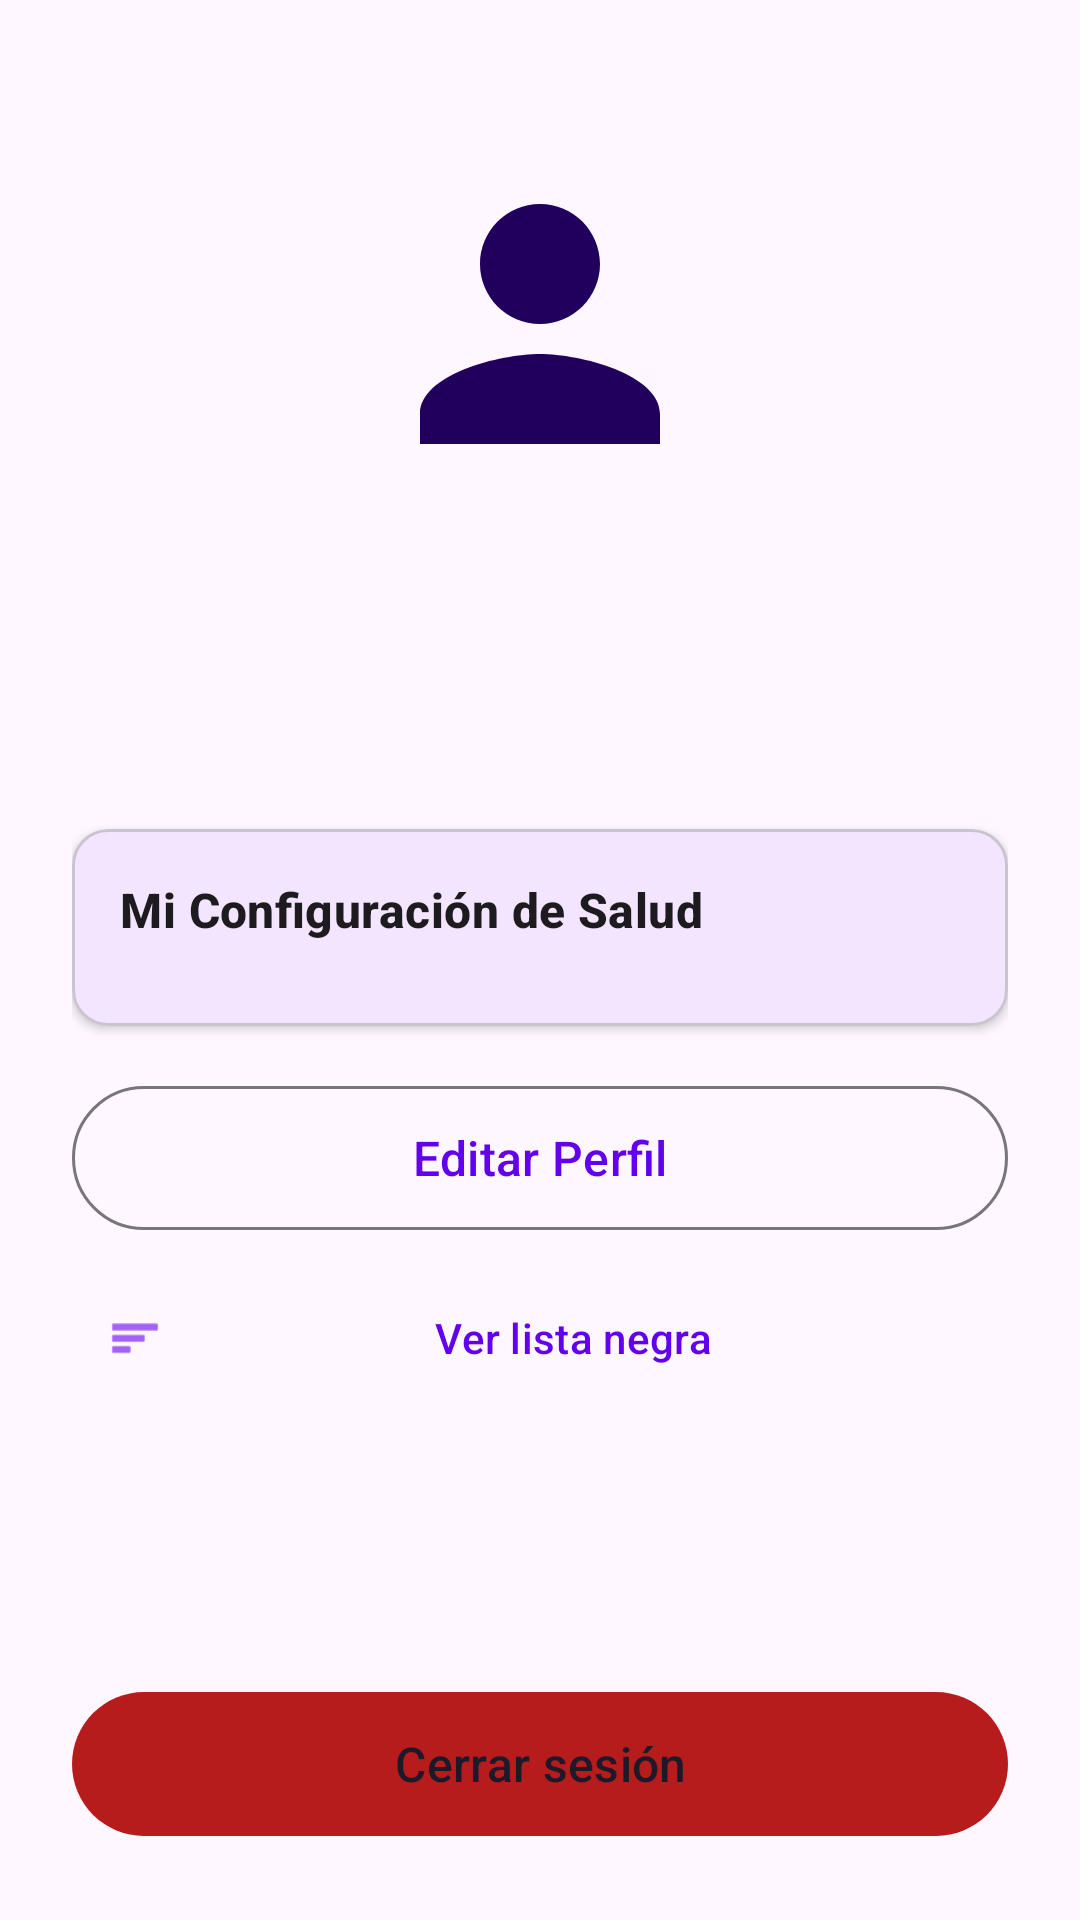

Where to tap for icons on this 1080 x 1920 app screen, as [x,y]:
Foto de perfil: [540,324]
